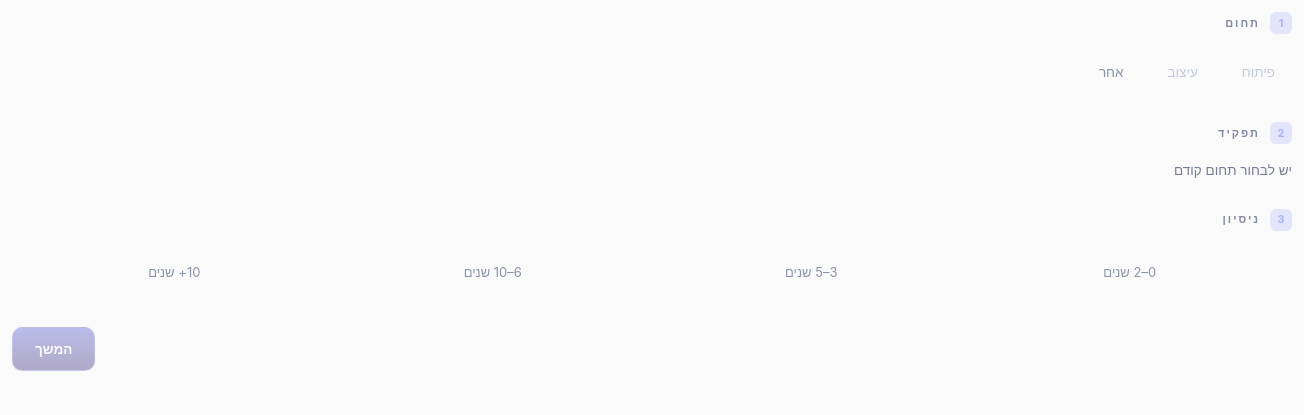
it: AboutYouStep - unhappy path / edge cases › keeps Continue disabled until Field, Role, and Experience are all satisfied
Click the button "פיתוח" at coordinates (1258, 72), box [1225,50,1292,94]
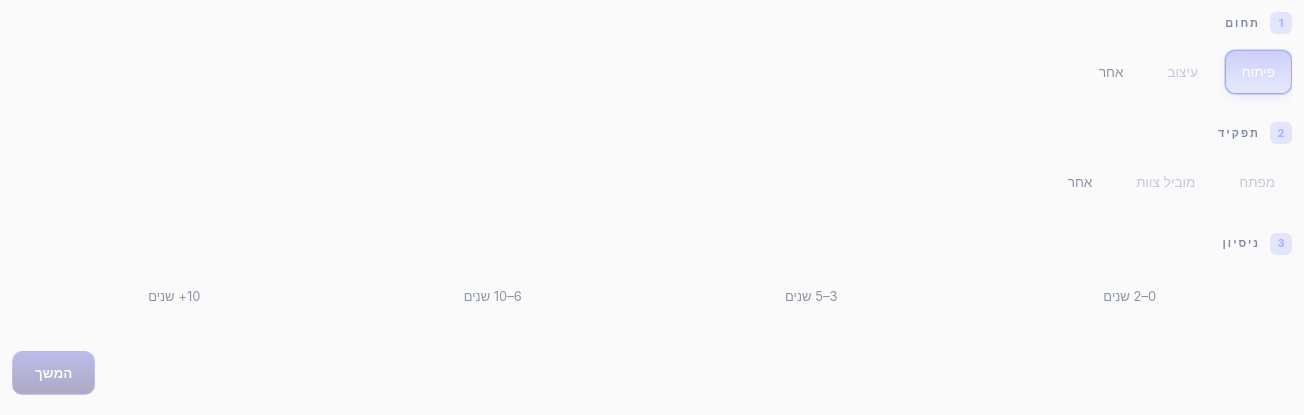
expect the button "המשך" is disabled: met, box [12,350,96,395]
Click the button "מפתח" at coordinates (1257, 182), box [1222,160,1292,205]
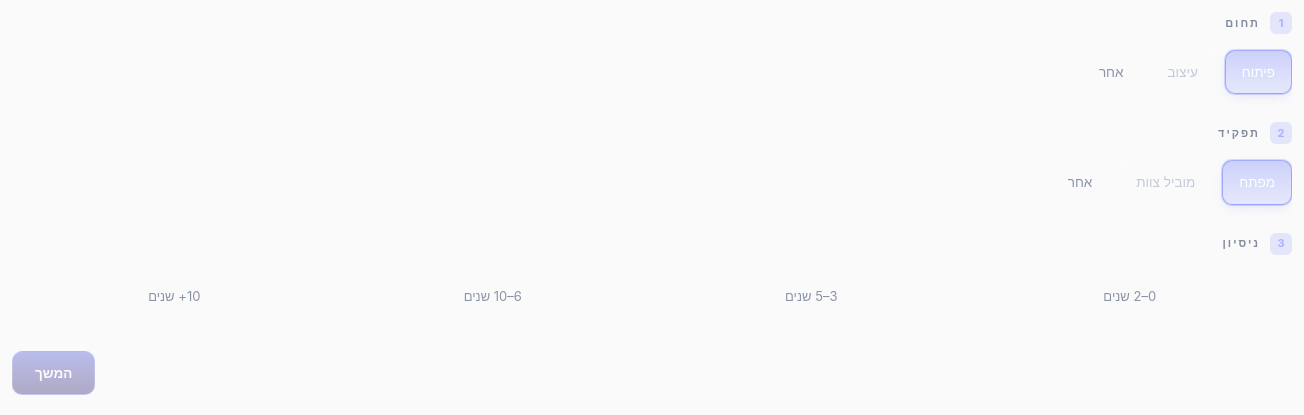
expect the button "המשך" is disabled: met, box [12,350,96,395]
Click the radio button labelled "0–2 שנים" at coordinates (1130, 296), box [1103,288,1156,304]
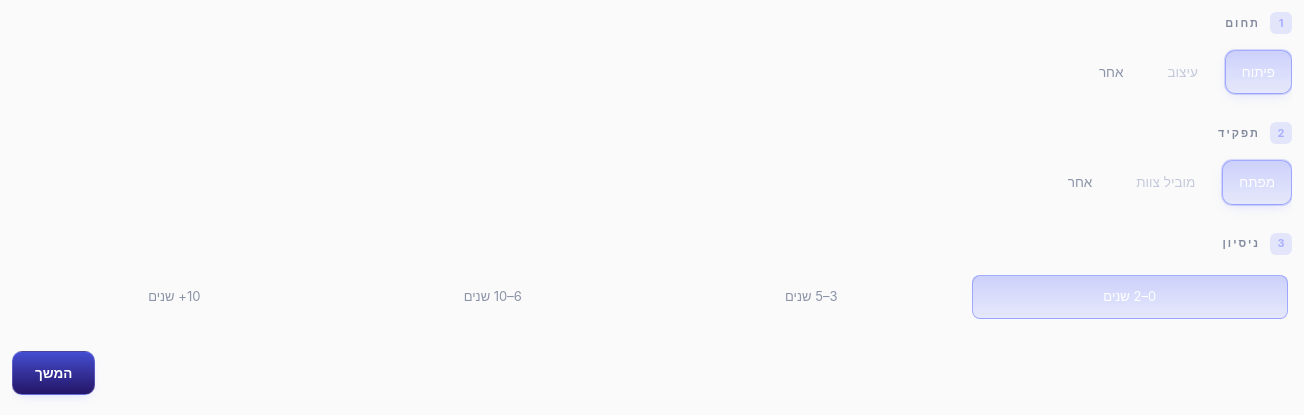
expect the button "המשך" is enabled: met, box [12,350,96,395]
